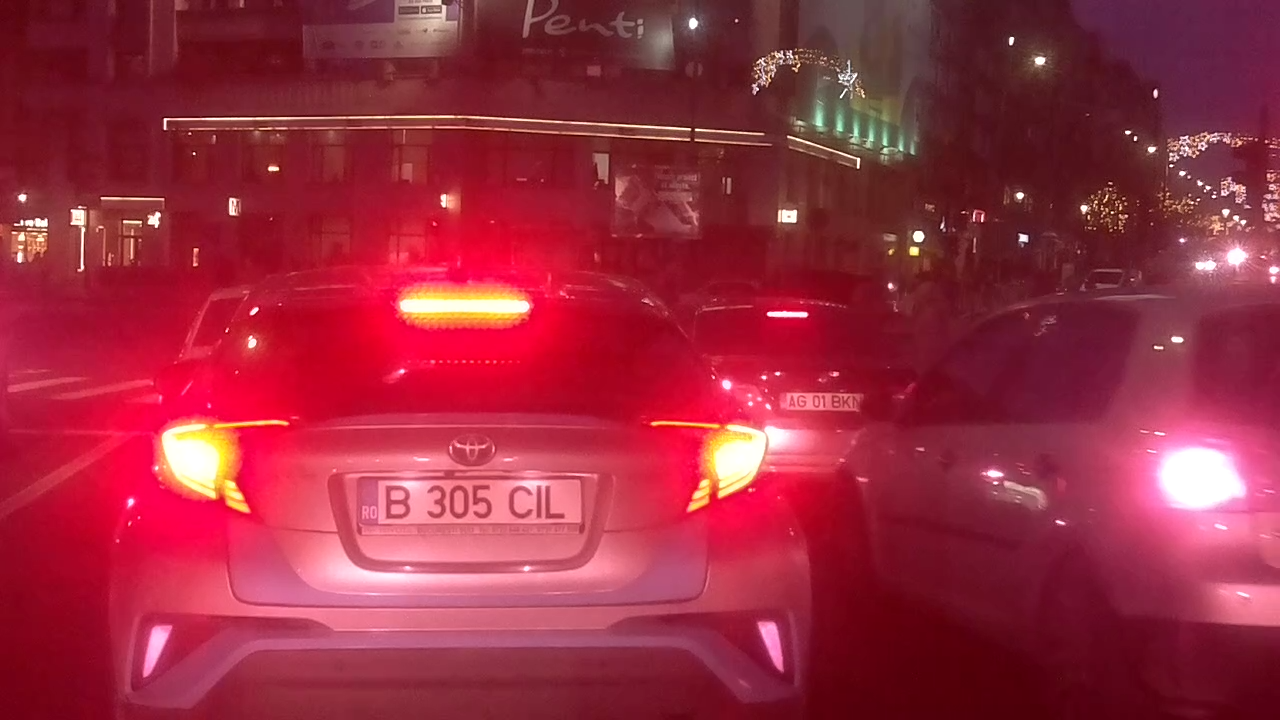license-plate: (351, 473, 590, 530), (776, 390, 869, 414)
